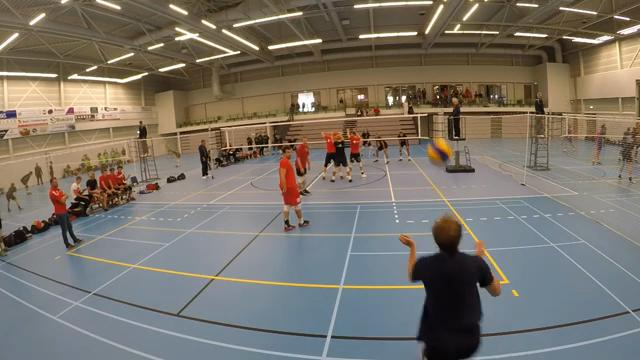battuta: (395, 207, 511, 359)
